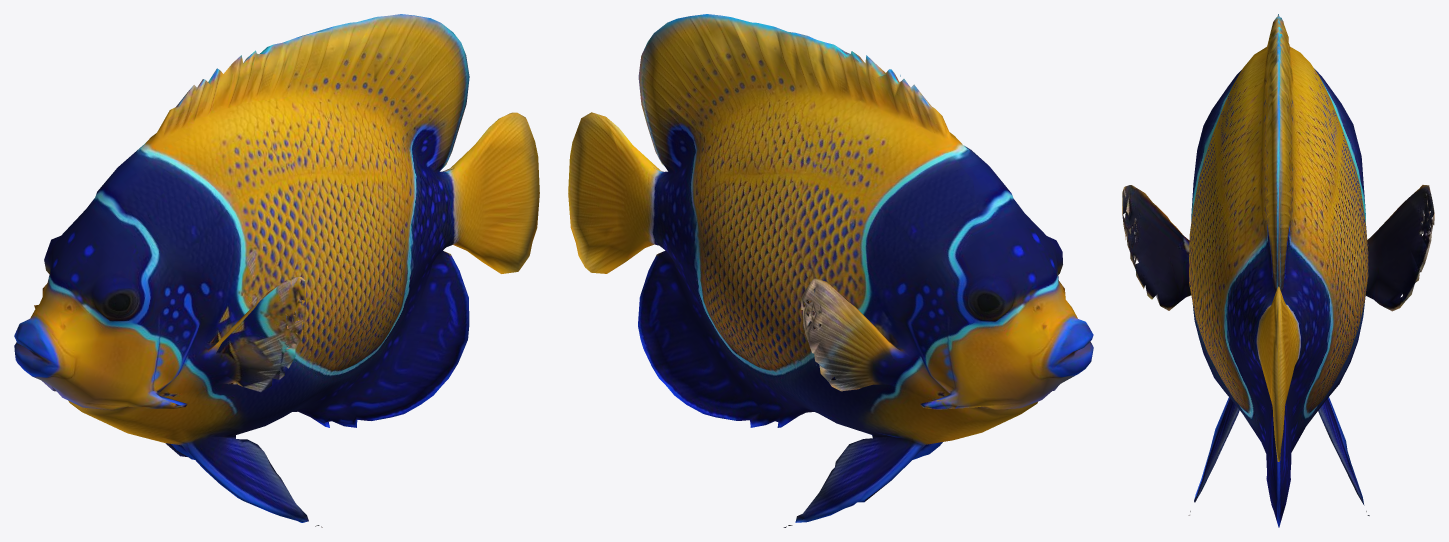
File: girdled_angel.feaf0810a5.glb
3 views of the same model, side by side, from view 1: azimuth 30°, elevation 25°; view 2: azimuth 150°, elevation 25°; view 3: azimuth 270°, elevation 25° (orthographic). The views are drawn at different scales.
Parts seen in each view (by area): view 1: girdled_angel; view 2: girdled_angel; view 3: girdled_angel.
Boxes of the visible parts, x1=… form: girdled_angel: x1=14, y1=14, x2=539, y2=527; girdled_angel: x1=568, y1=14, x2=1093, y2=527; girdled_angel: x1=1122, y1=14, x2=1434, y2=527.
Size of the model in its own units: 0.9771 by 0.8193 by 0.4812.
Materials: 1 (1 with a texture image).
